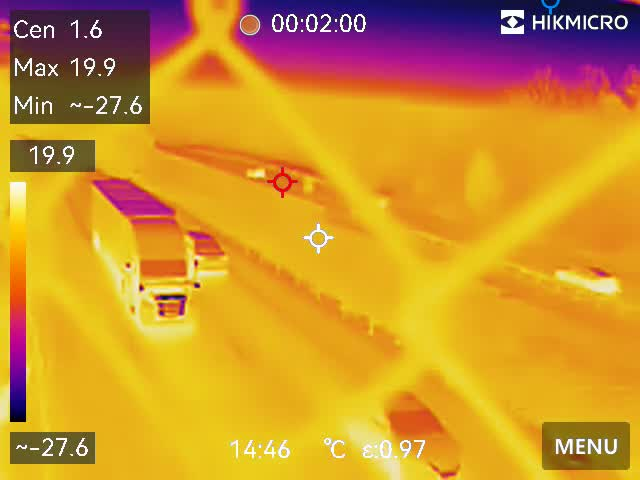heavyTruck: (87, 173, 191, 324)
smallCar: (353, 374, 468, 480)
vehicle: (546, 258, 623, 299), (188, 227, 232, 275)
